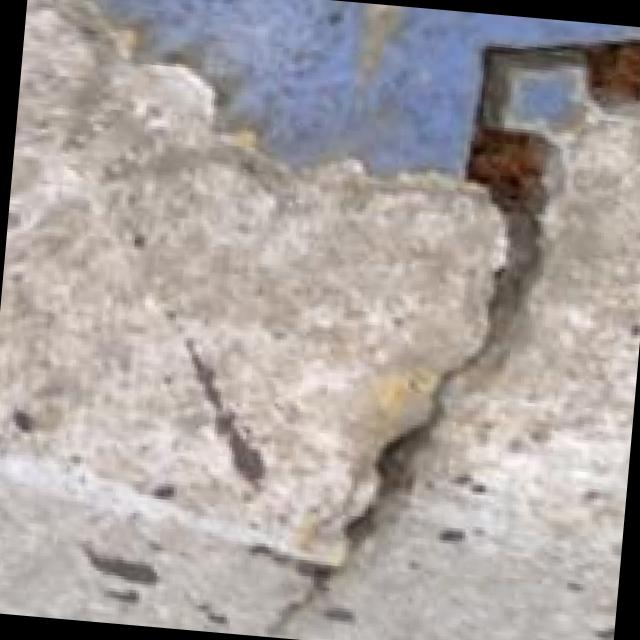crack: (292, 23, 640, 640)
